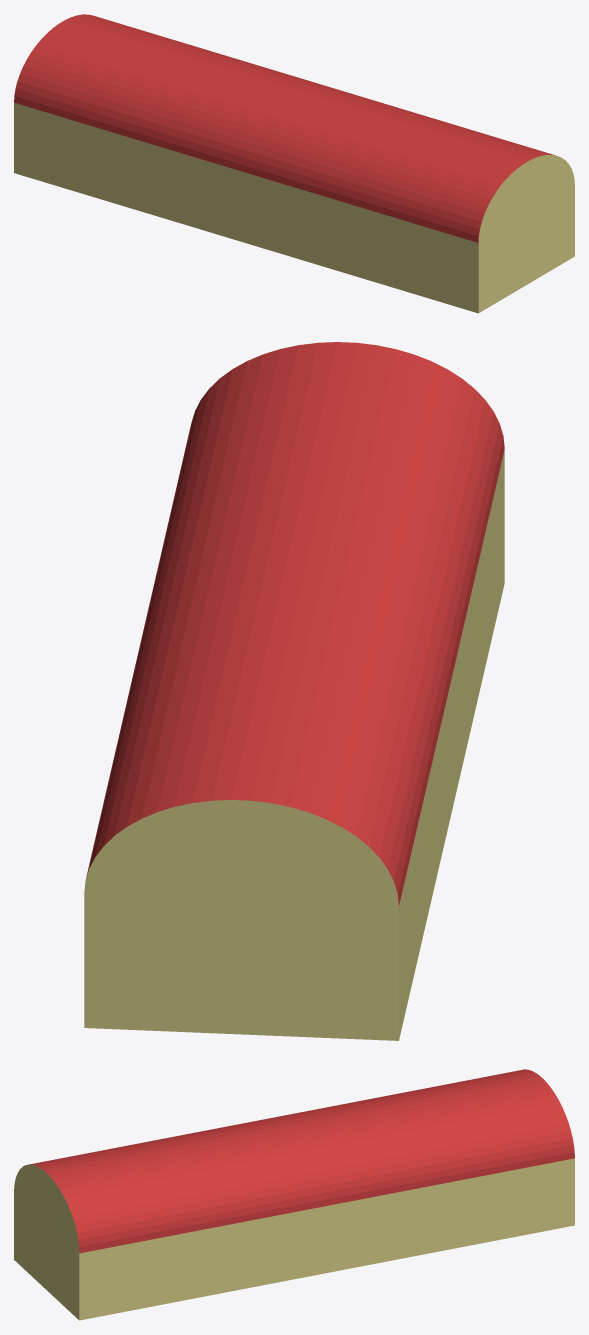
The picture shows the model from 3 angles, top to bottom: view 1: azimuth 30°, elevation 25°; view 2: azimuth 150°, elevation 25°; view 3: azimuth 270°, elevation 25°; orthographic projection. The views are drawn at different scales.
Bounding box in the file's own units: 20.49 × 31.15 × 7.17.
